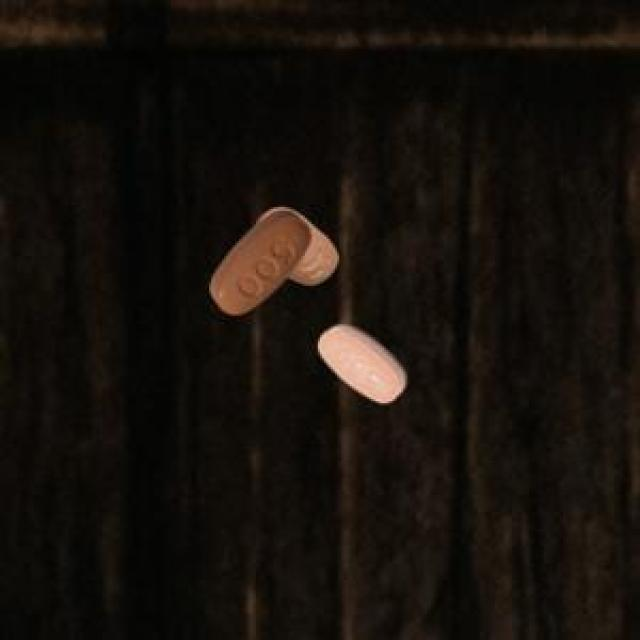Biogesic: (198, 190, 348, 322), (311, 322, 414, 409)
